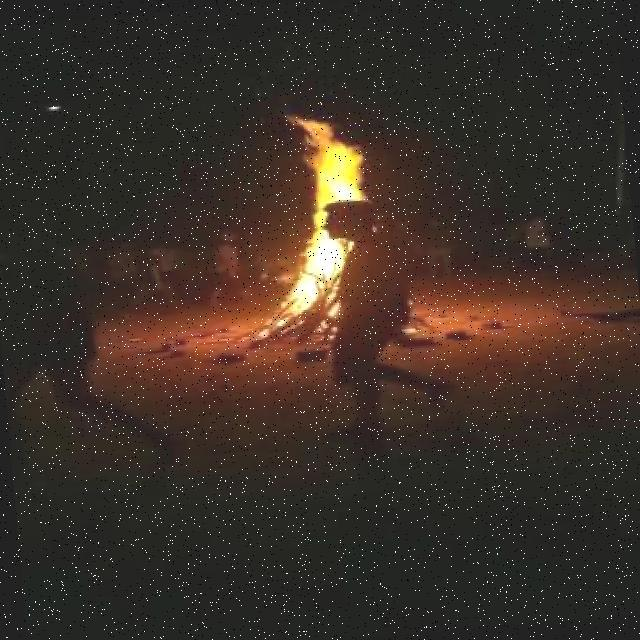Fire: (231, 88, 403, 309)
